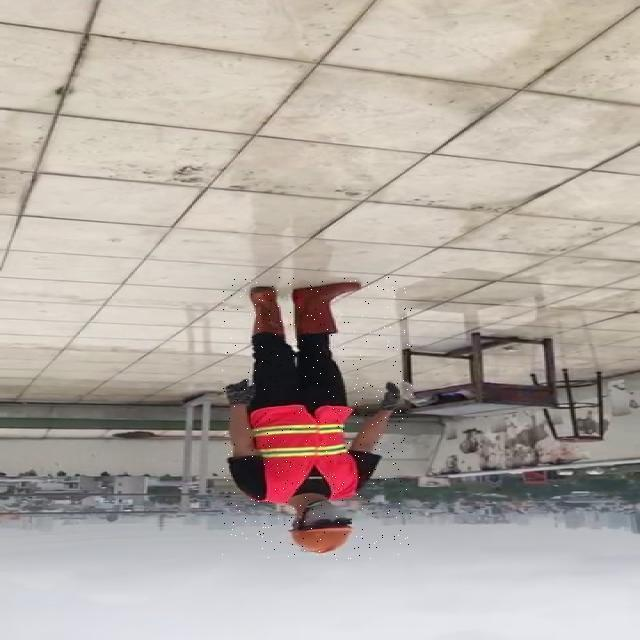gloves: (223, 379, 258, 409), (373, 380, 405, 411)
